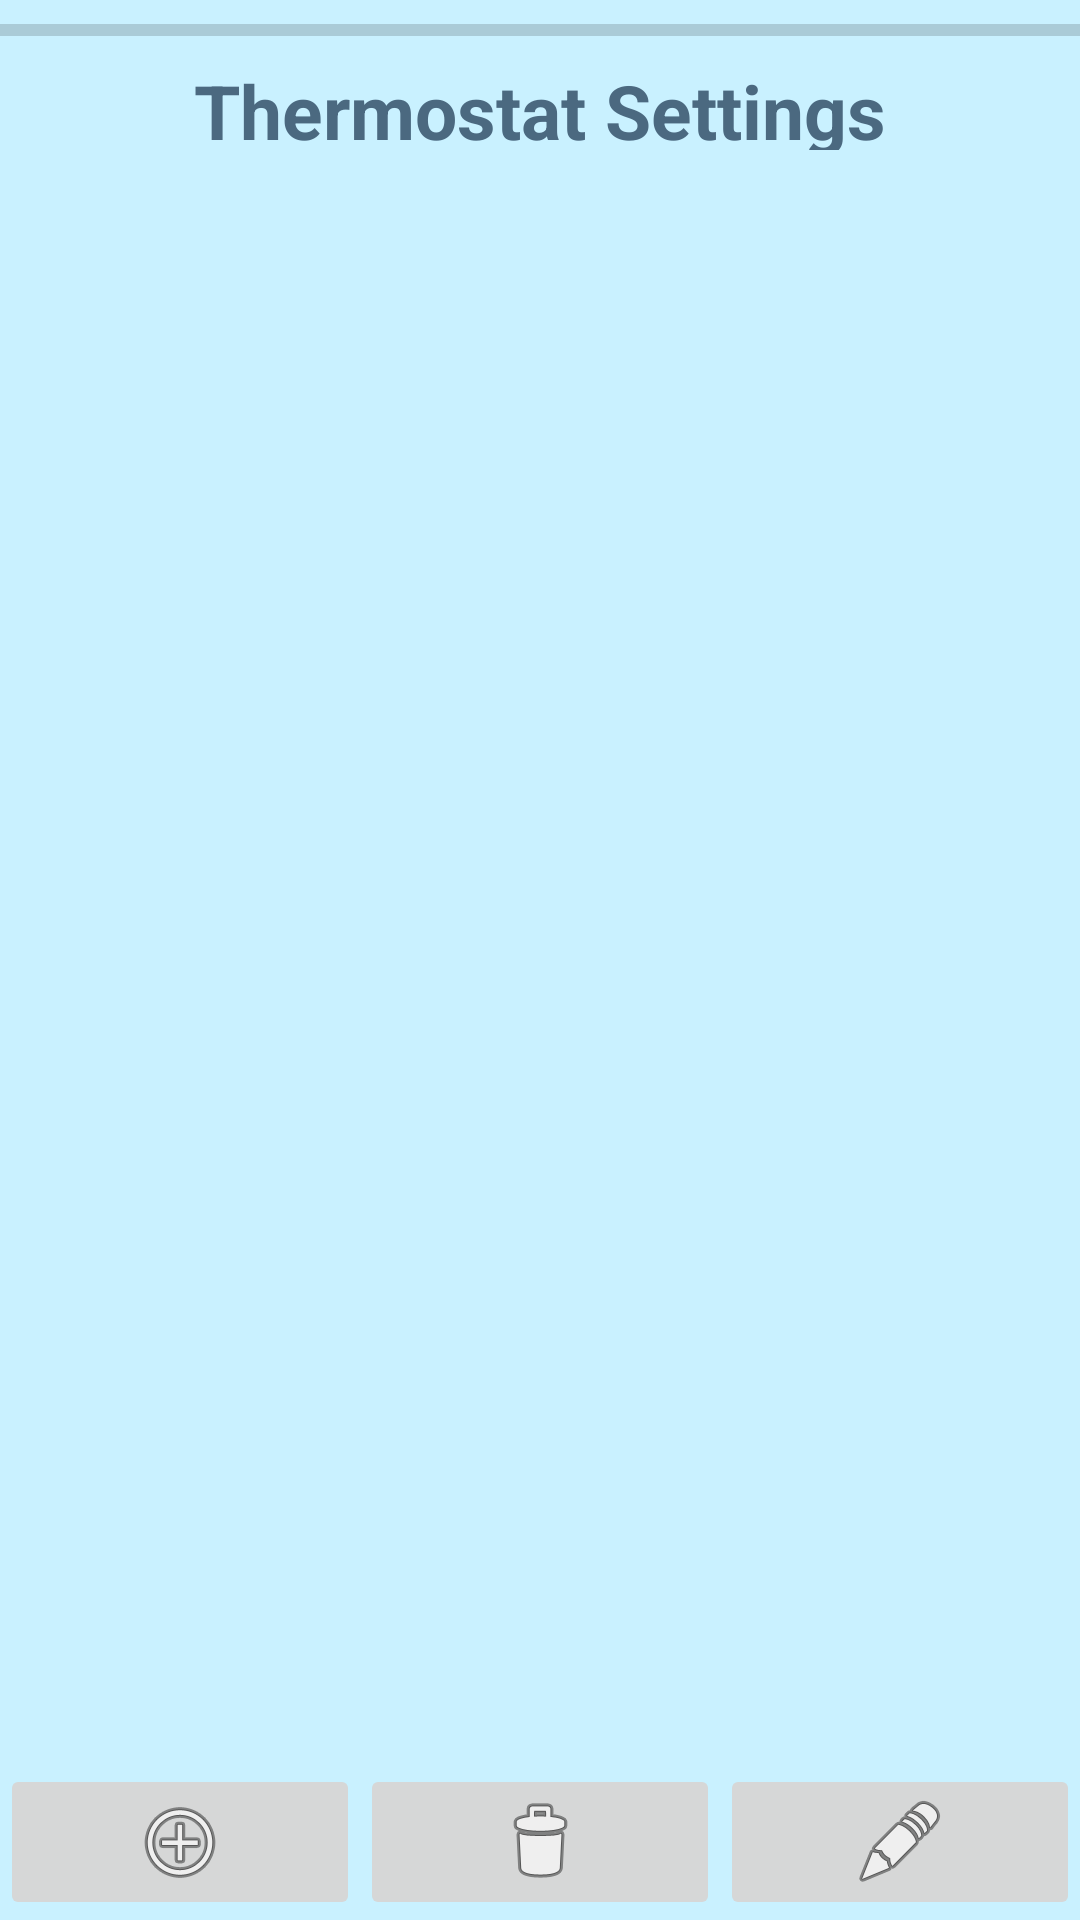

Named icons in this screenshot (1080*1920) and their bounding boxes, bbox(x1, y1, x2, y2):
add: bbox(12, 1782, 348, 1902)
delete: bbox(372, 1782, 708, 1902)
edit: bbox(732, 1782, 1068, 1902)
